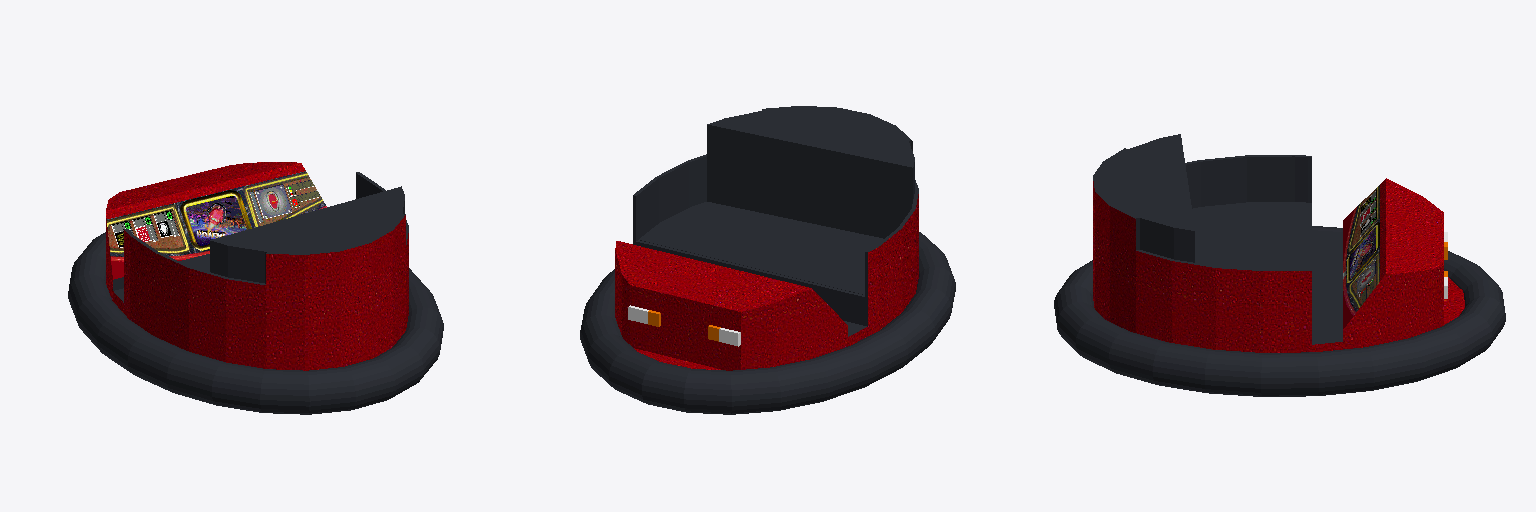
The picture shows the model from 3 angles: view 1: azimuth 30°, elevation 25°; view 2: azimuth 150°, elevation 25°; view 3: azimuth 270°, elevation 25°; orthographic projection.
Visible parts, largest first — view 1: koura_red-SKP--_Formica_Blue_, koura_red-SKP--_Formica_Laminate_Dark_, koura_red-SKP--_Carpet_Berber_Pattern_Gray_; view 2: koura_red-SKP--_Formica_Laminate_Dark_, koura_red-SKP--_Formica_Blue_, koura_red-SKP--_Color_000_; view 3: koura_red-SKP--_Formica_Laminate_Dark_, koura_red-SKP--_Formica_Blue_, koura_red-SKP--_Carpet_Berber_Pattern_Gray_.
Part boxes in pixels (bbox=[...]): koura_red-SKP--_Formica_Blue_: bbox=[106, 162, 408, 370]; koura_red-SKP--_Formica_Laminate_Dark_: bbox=[68, 172, 443, 414]; koura_red-SKP--_Carpet_Berber_Pattern_Gray_: bbox=[107, 171, 326, 279]; koura_red-SKP--_Formica_Laminate_Dark_: bbox=[580, 106, 955, 414]; koura_red-SKP--_Formica_Blue_: bbox=[615, 194, 918, 370]; koura_red-SKP--_Color_000_: bbox=[628, 305, 740, 346]; koura_red-SKP--_Formica_Laminate_Dark_: bbox=[1054, 134, 1505, 396]; koura_red-SKP--_Formica_Blue_: bbox=[1093, 178, 1464, 352]; koura_red-SKP--_Carpet_Berber_Pattern_Gray_: bbox=[1343, 185, 1379, 328].
Size of the model in its own units: 85.35 by 41.06 by 112.
6 materials, 4 textured.